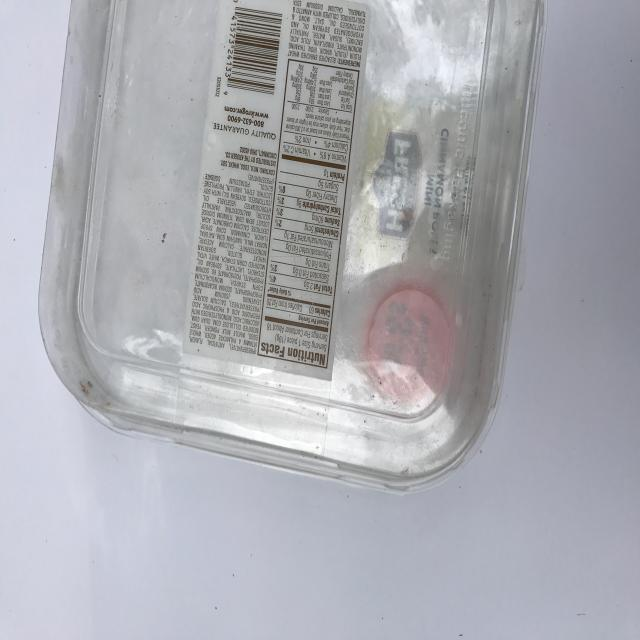plastic: (38, 0, 547, 495)
